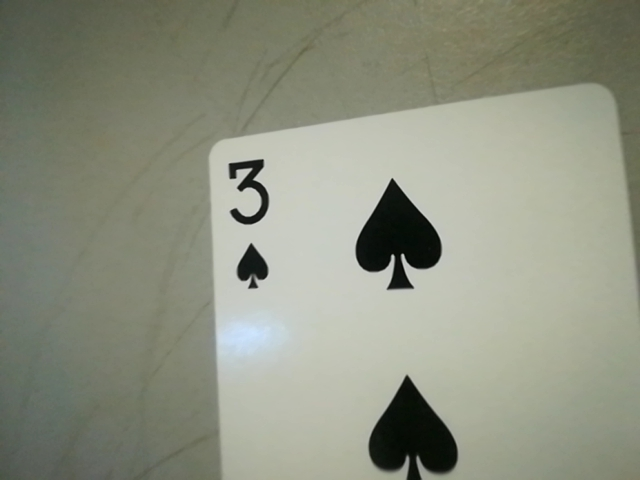ht 3: (212, 147, 284, 301)
